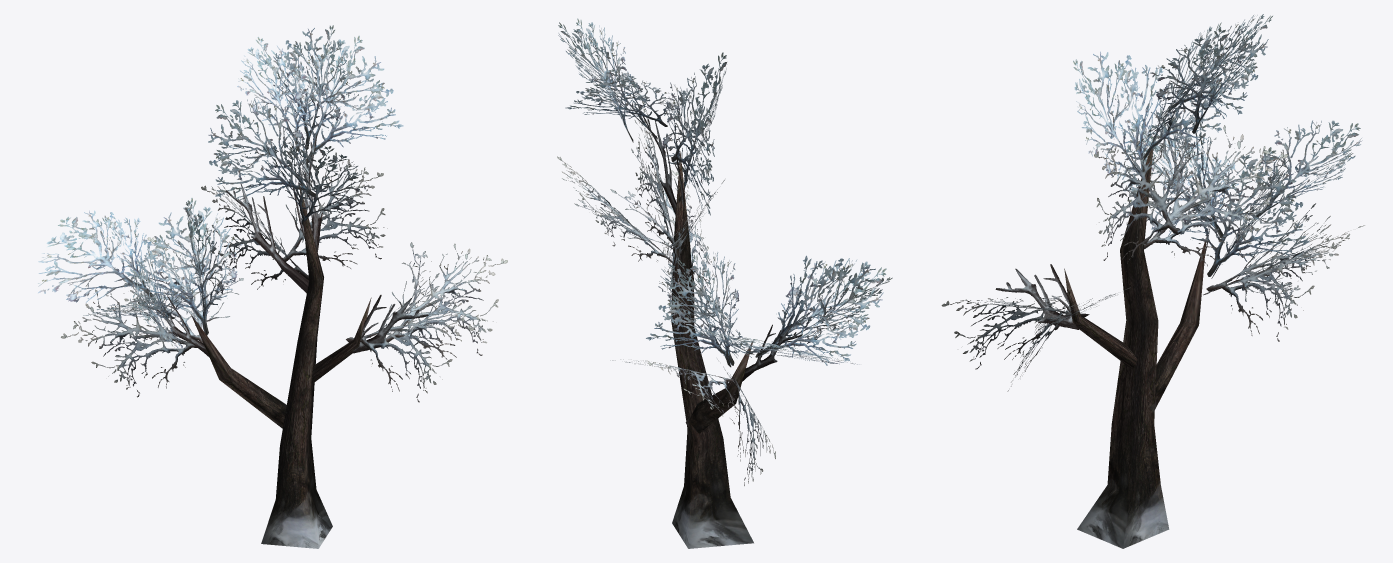
File: yw_tianshan_xueshu04.FBX
The picture shows the model from 3 angles, left to right: view 1: azimuth 30°, elevation 25°; view 2: azimuth 150°, elevation 25°; view 3: azimuth 270°, elevation 25°; orthographic projection. The views are drawn at different scales.
Visible parts, largest first — view 1: yw_tianshan_xueshu04; view 2: yw_tianshan_xueshu04; view 3: yw_tianshan_xueshu04.
Part boxes in pixels (x1,y1,x2,y2): yw_tianshan_xueshu04: [38, 25, 507, 548]; yw_tianshan_xueshu04: [557, 18, 892, 548]; yw_tianshan_xueshu04: [941, 14, 1364, 548].
Bounding box in the file's own units: 733 × 804 × 590.
